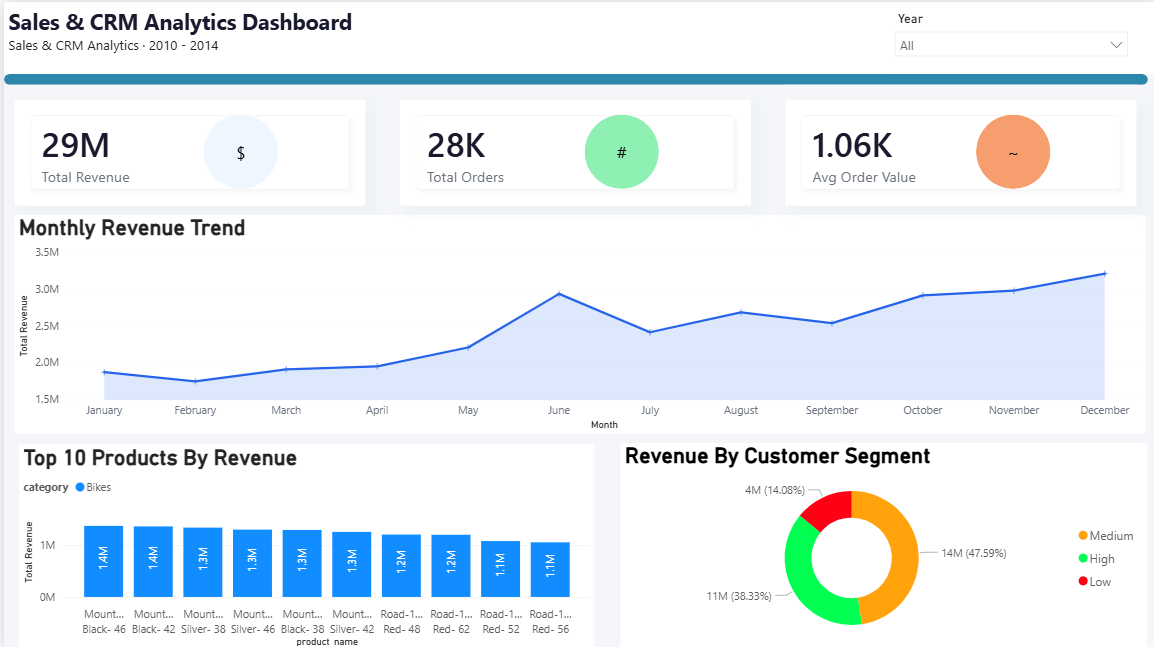

Layout of this report page (visuals, bound fields, positions):
{"tool":"powerbi","page":{"name":"Page 1","canvas":[1280,720],"ordinal":0},"visuals":[{"type":"shape","box":[0,0,1280.4,79.5],"z":0},{"type":"shape","box":[0,80,1271,12],"z":1000},{"type":"textbox","box":[0,0,1270.9,79.5],"z":2000},{"type":"cardVisual","fields":{"Data":["gold fact_sales.Total Revenue"]},"box":[11.1,108.2,389.7,117.7],"z":3000},{"type":"shape","box":[221.1,125.7,82.7,82.7],"z":4000},{"type":"lineChart","title":"Monthly Revenue Trend","fields":{"Category":["gold fact_sales.order_date.Variation.Date Hierarchy.Month"],"Y":["gold fact_sales.Total Revenue"]},"box":[11.1,237,1256.6,243.4],"z":5000},{"type":"clusteredColumnChart","title":"Top 10 Products By Revenue","fields":{"Category":["gold dim_products.product_name"],"Y":["gold fact_sales.Total Revenue"],"Series":["gold dim_products.category"]},"box":[15.9,491.5,639.4,229],"z":6000},{"type":"cardVisual","fields":{"Data":["gold fact_sales.Total Orders"]},"box":[440.6,108.2,389.7,117.7],"z":7000},{"type":"cardVisual","fields":{"Data":["gold fact_sales.Avg Order Value"]},"box":[868.5,108.2,389.7,117.7],"z":8000},{"type":"shape","box":[644.2,125.7,82.7,82.7],"z":9000},{"type":"shape","box":[1080,125.7,82.7,82.7],"z":10000},{"type":"donutChart","title":"Revenue By Customer Segment","fields":{"Category":["gold fact_sales.Customer Segment"],"Y":["gold fact_sales.Total Revenue"]},"box":[685,490,585,227.5],"z":11000},{"type":"slicer","fields":{"Values":["gold fact_sales.order_date.Variation.Date Hierarchy.Year"]},"box":[979.8,4.8,278.4,74.8],"z":12000}]}

Visuals, with their boxes in screenshot pixels (x1, y1, x2, y2), scaled from the page's 1280x720 canvas onto the 1154x647 screenshot:
shape: crop(0, 0, 1153, 71)
shape: crop(0, 72, 1146, 83)
textbox: crop(0, 0, 1146, 71)
cardVisual - gold fact_sales.Total Revenue: crop(10, 97, 361, 203)
shape: crop(199, 113, 274, 187)
"Monthly Revenue Trend" lineChart: crop(10, 213, 1143, 432)
"Top 10 Products By Revenue" clusteredColumnChart: crop(14, 442, 591, 646)
cardVisual - gold fact_sales.Total Orders: crop(397, 97, 749, 203)
cardVisual - gold fact_sales.Avg Order Value: crop(783, 97, 1134, 203)
shape: crop(581, 113, 655, 187)
shape: crop(974, 113, 1048, 187)
"Revenue By Customer Segment" donutChart: crop(618, 440, 1145, 645)
slicer - gold fact_sales.order_date.Variation.Date Hierarchy.Year: crop(883, 4, 1134, 72)
